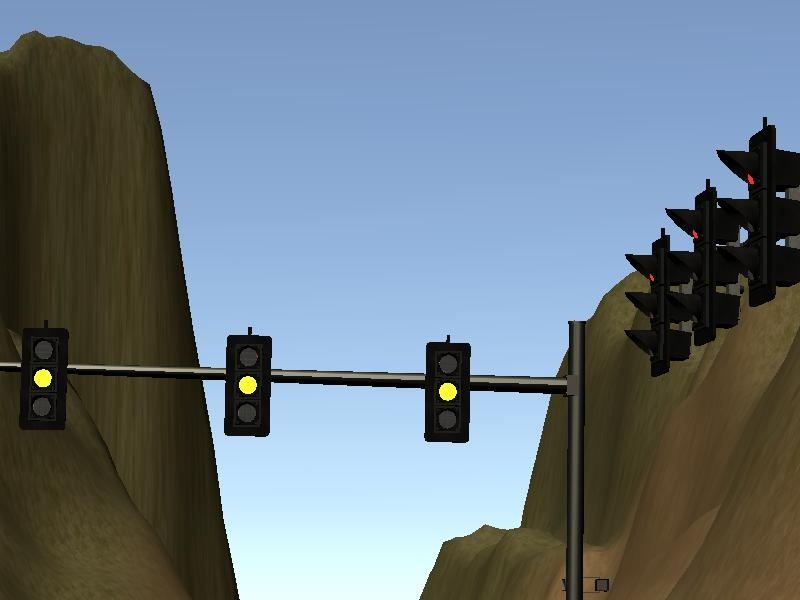YELLOW: (18, 325, 68, 429), (222, 332, 272, 436), (422, 340, 472, 444)
